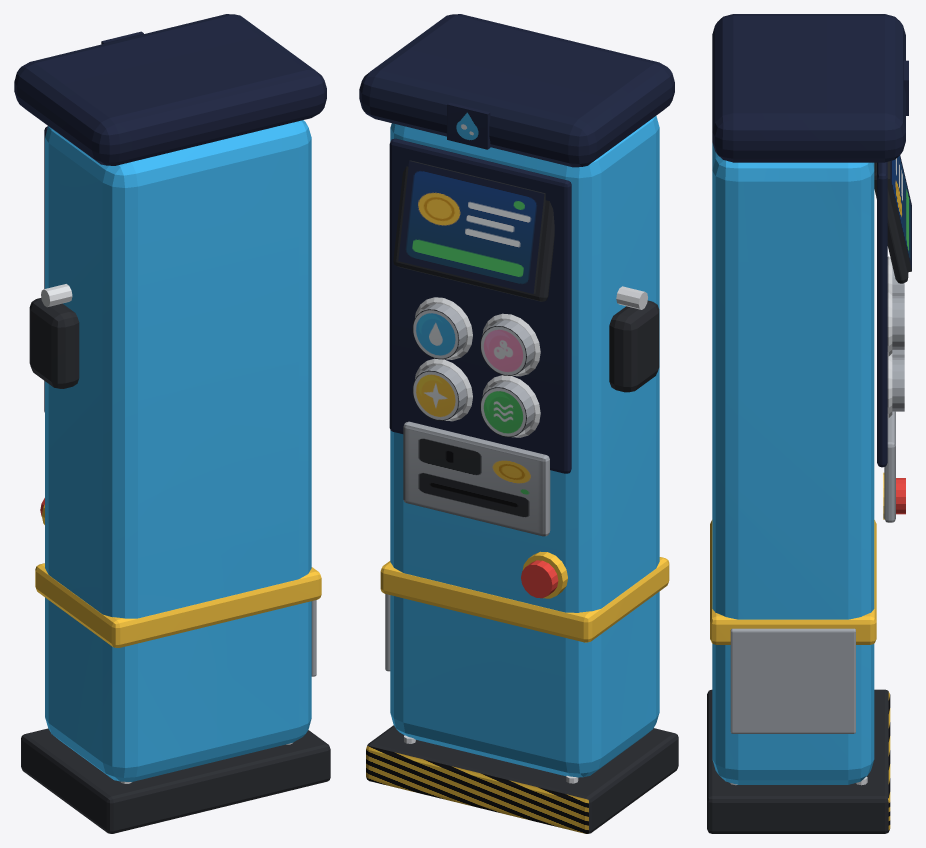
Rendered from SW_PayTerminal.glb.
3 views of the same model, side by side, from view 1: azimuth 30°, elevation 25°; view 2: azimuth 150°, elevation 25°; view 3: azimuth 270°, elevation 25° (orthographic).
Visible parts, largest first — view 1: Body; view 2: Body; view 3: Body.
Boxes of the visible parts, x1,y1,x2,y2 form: Body: [14, 14, 330, 833]; Body: [359, 14, 678, 833]; Body: [707, 14, 911, 833].
Size of the model in its own units: 0.55 by 1.51 by 0.3917.
Materials: 2 (1 with a texture image).
